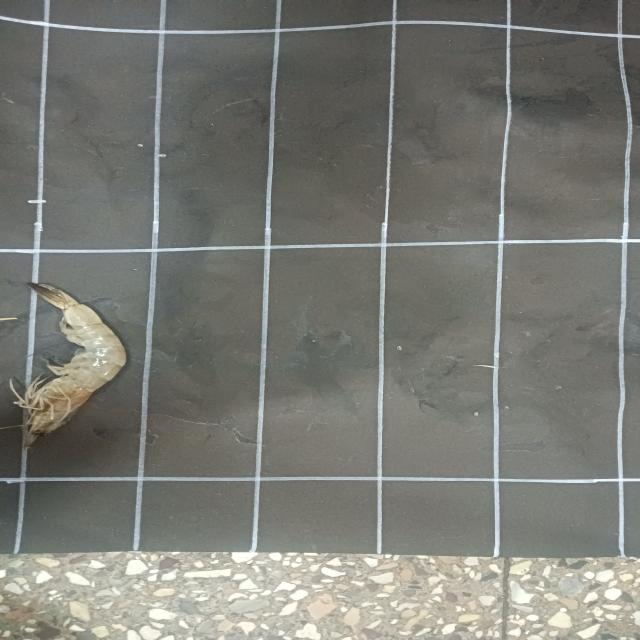shrimp: (11, 282, 126, 446)
